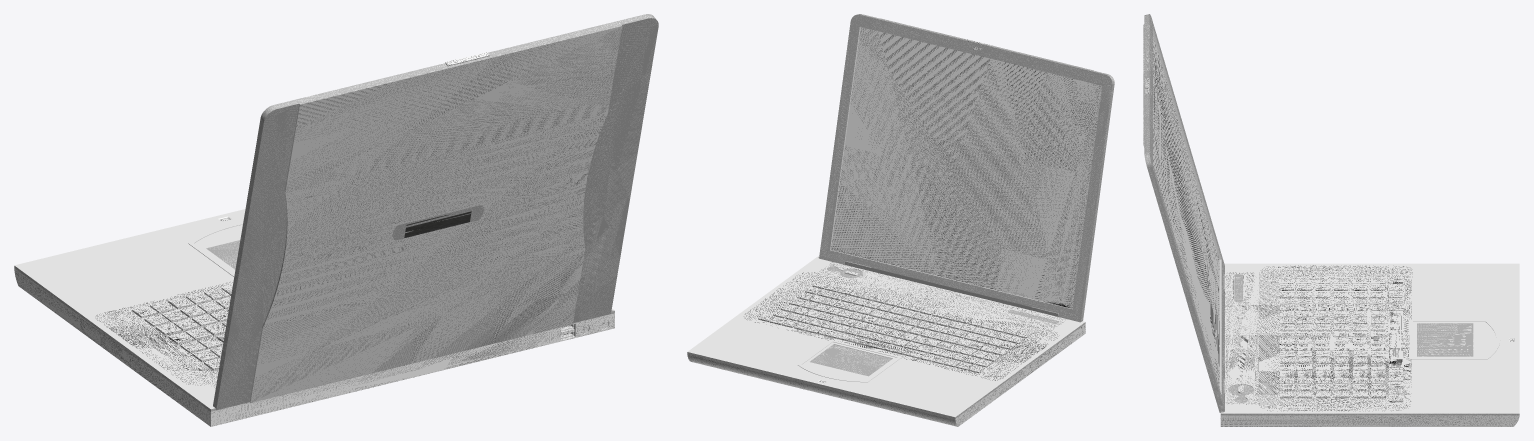
The picture shows the model from 3 angles, left to right: view 1: azimuth 30°, elevation 25°; view 2: azimuth 150°, elevation 25°; view 3: azimuth 270°, elevation 25°; orthographic projection. The views are drawn at different scales.
Parts seen in each view (by area): view 1: mesh1_mesh1-geometry, mesh117_mesh117-geometry; view 2: mesh1_mesh1-geometry, mesh2_mesh2-geometry; view 3: mesh1_mesh1-geometry, mesh2_mesh2-geometry.
Boxes of the visible parts, x1,y1,x2,y2 form: mesh1_mesh1-geometry: (14, 14, 658, 426); mesh117_mesh117-geometry: (404, 211, 471, 237); mesh1_mesh1-geometry: (687, 14, 1114, 426); mesh2_mesh2-geometry: (817, 328, 937, 361); mesh1_mesh1-geometry: (1143, 14, 1519, 426); mesh2_mesh2-geometry: (1388, 304, 1402, 367).
Bounding box in the file's own units: 0.5953 × 0.497 × 0.6313.
